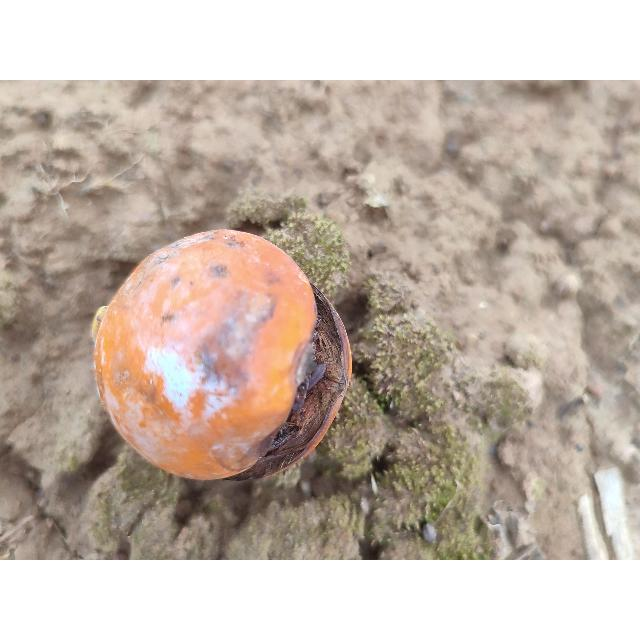damaged: (92, 230, 346, 483)
